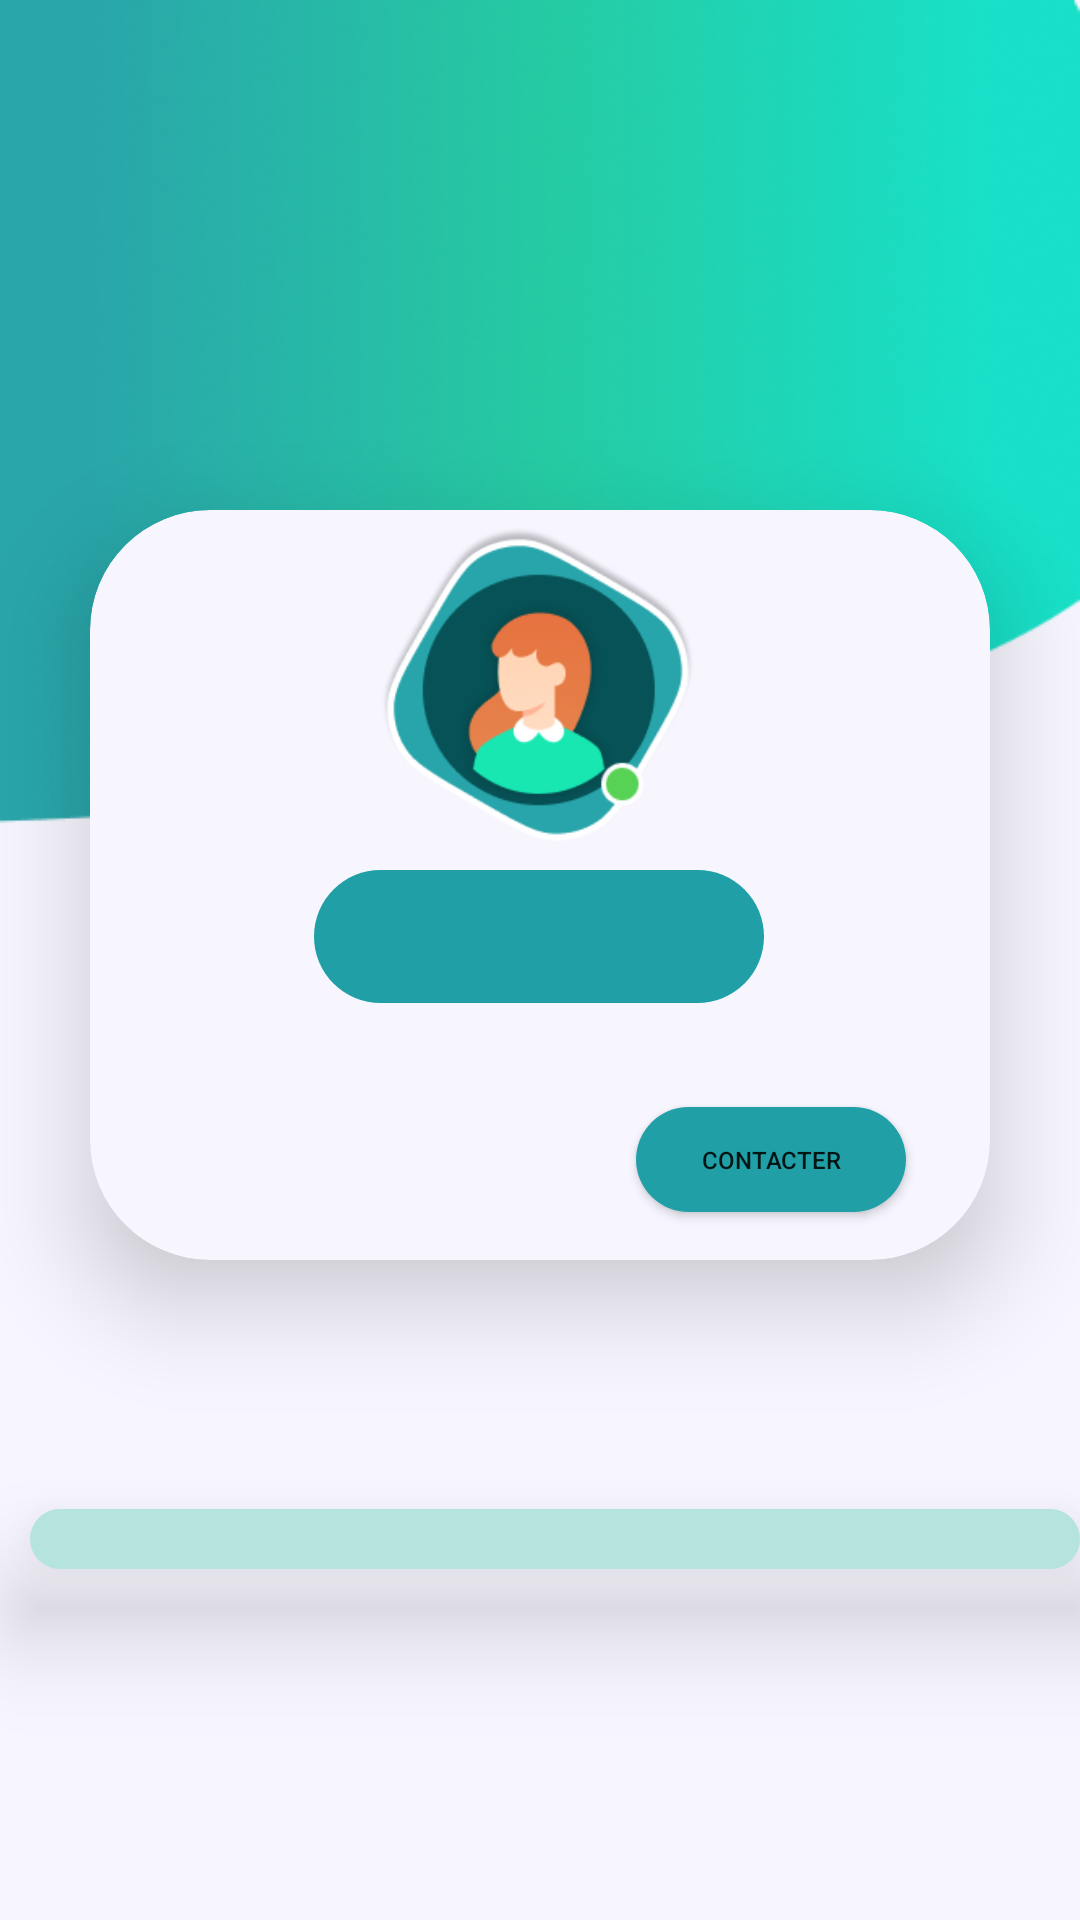

Screen size 1080w x 1920h. Icon name, then its center in pixels as (x,y):
profile user pic: (538,683)
